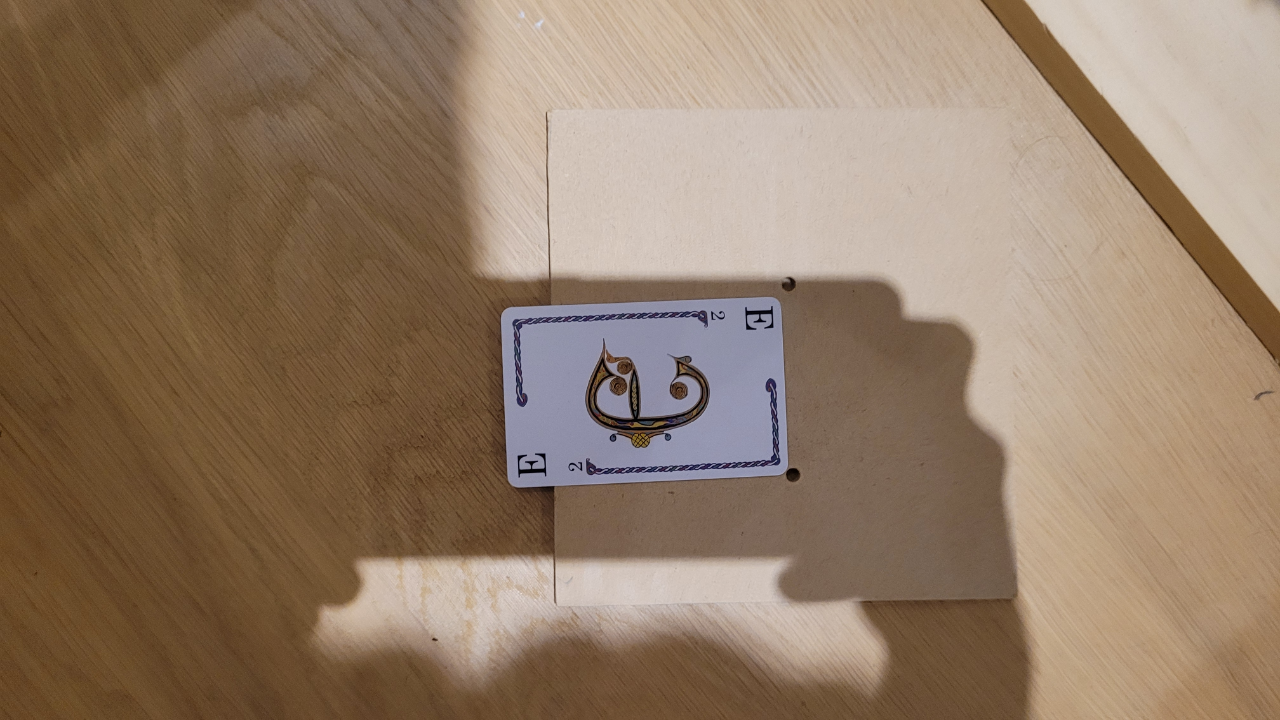quiddler_card: (482, 302, 798, 501)
